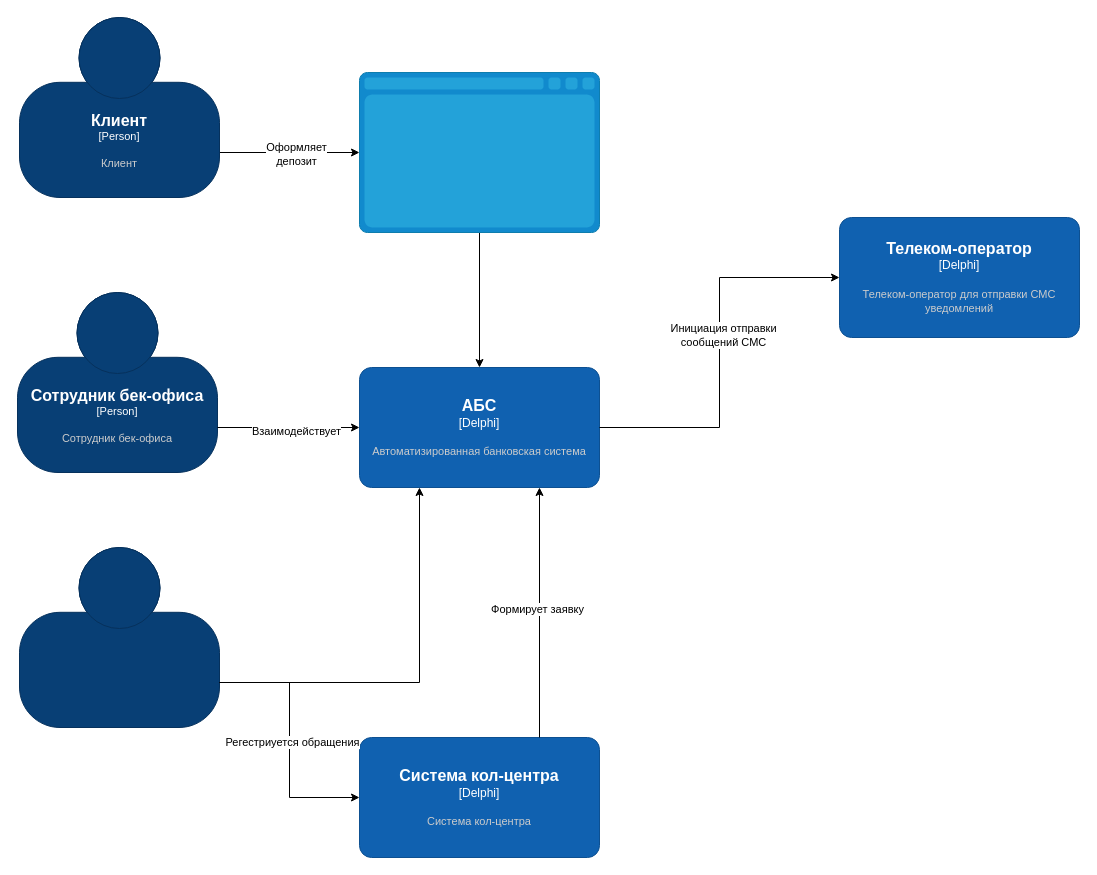
Some shapes in this 1097 by 875 pixel diagram are drawn without their labels. The box of each missing label's shape, as (x1, y1, x2, y2) in pixels:
Интернет-банк [Container: e.g. JavaScript, Angular etc.] Интернет-банкинг: (358, 72, 600, 232)
Сотрудник фронт-офиса [Person] Сотрудник фронт-офиса: (18, 546, 220, 728)
